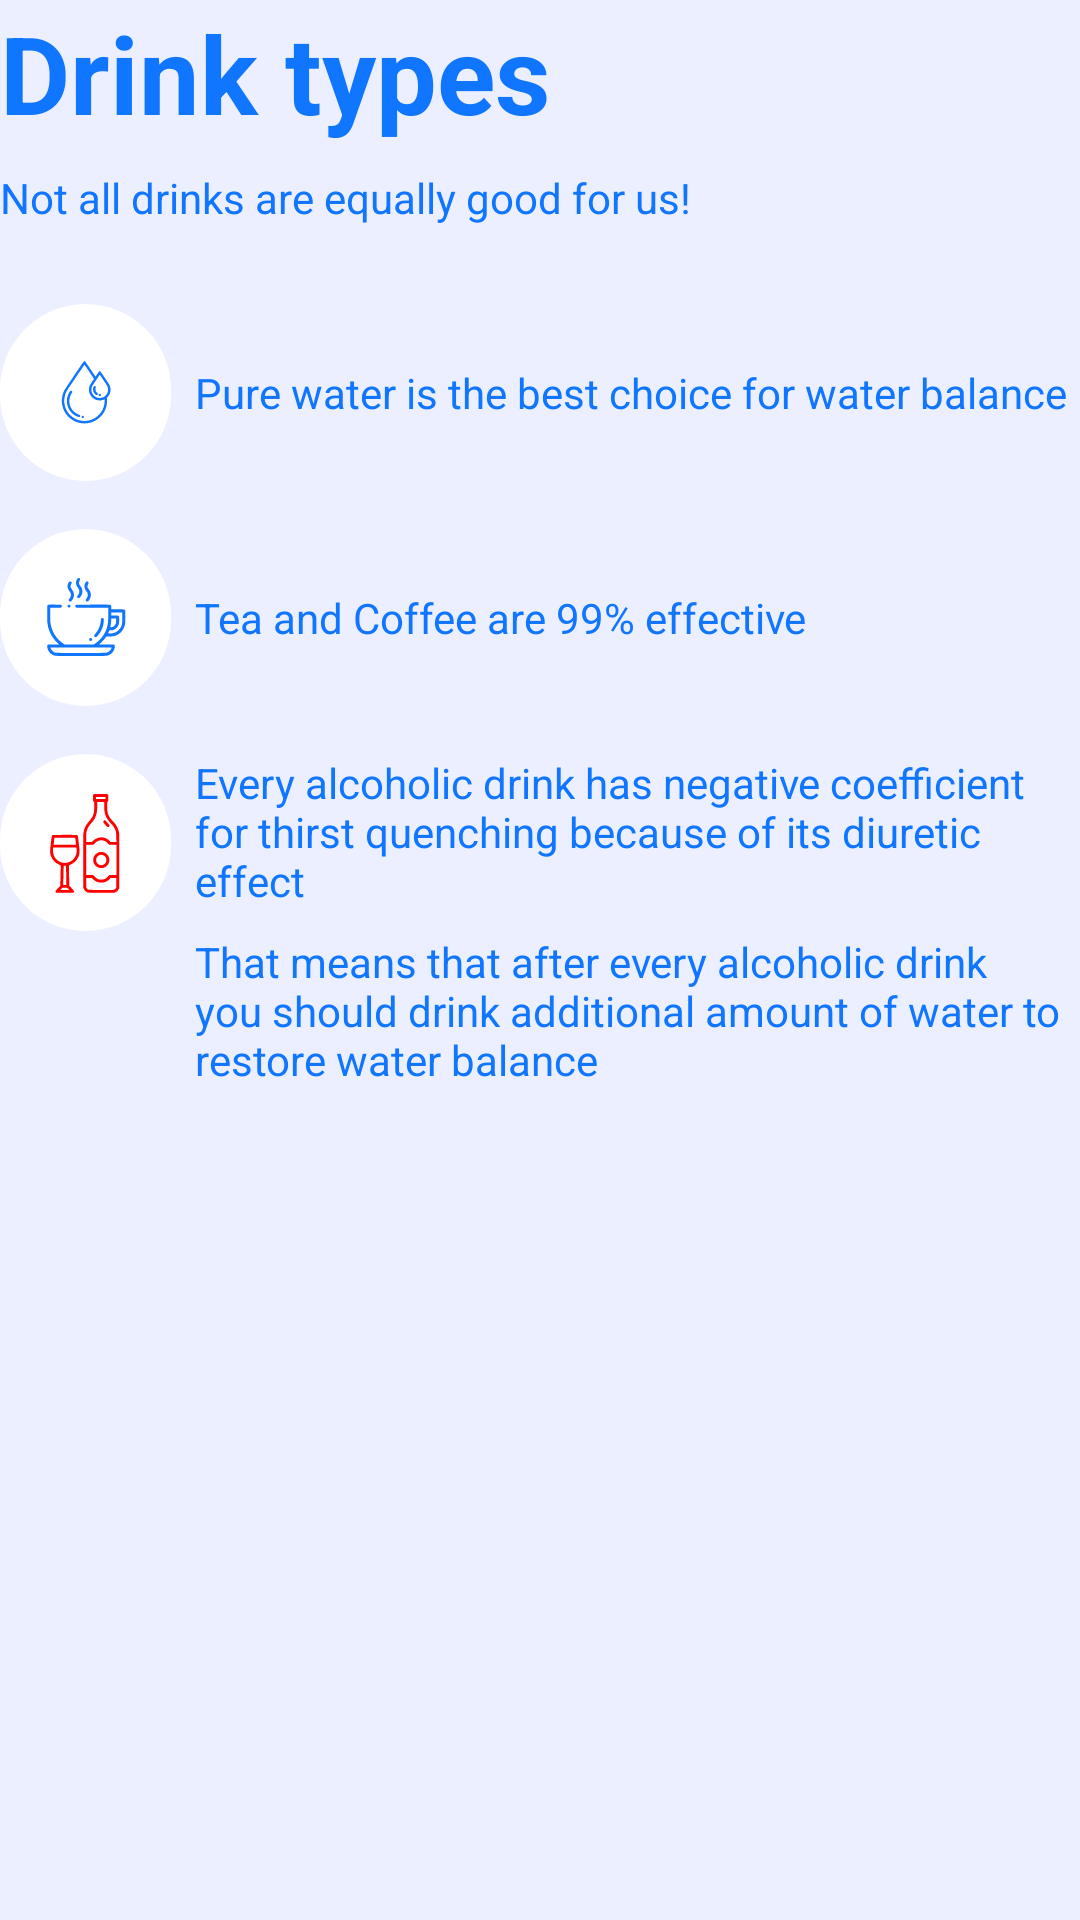

Where icons sit on this 1080 x 1920 app screen, as (x1, y1, x2, y2):
wine: (0, 754, 171, 931)
